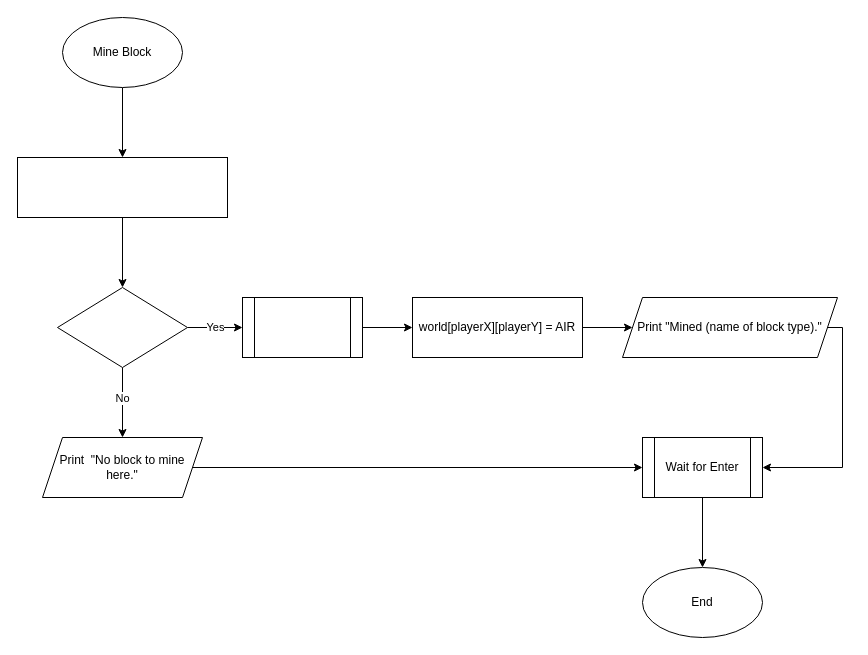
This 868x655 diagram has some shape labels left out. Each missing label, with the centre of its shape:
Add blockType to inventory: the point at 302,327
if blockType is not AIR: the point at 122,327
int blockType = world[playerX][playerY]: the point at 122,187
